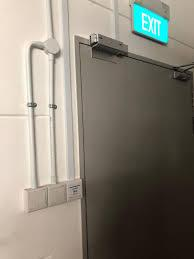exit: (79, 44, 193, 258)
lit_exit_sign: (133, 4, 167, 43)
